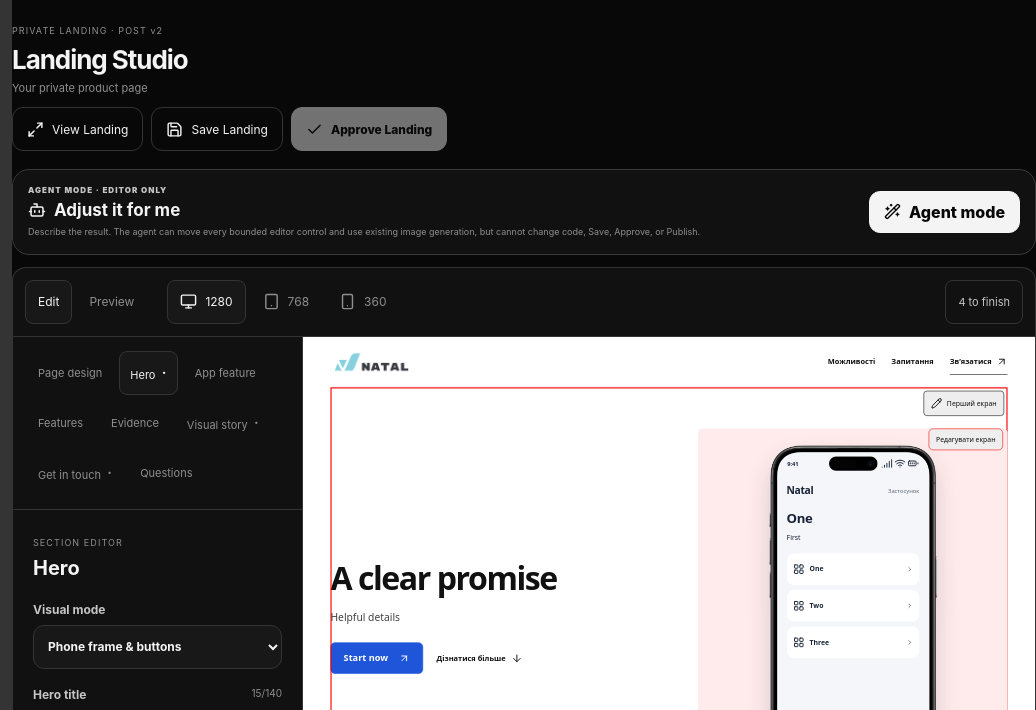
Test: saves a lightweight edit checkpoint without invoking learning
Click the button "Save Landing" at (217, 129), box [152,107,283,151]
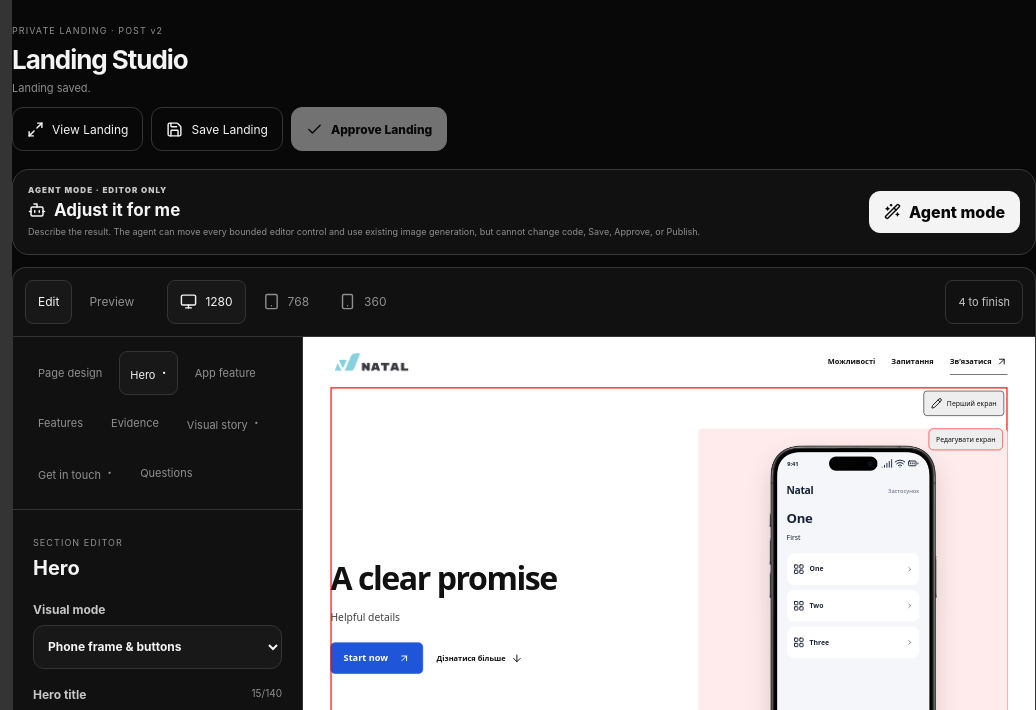
Expected: the message reads "Landing saved.", [12,81,91,95]
